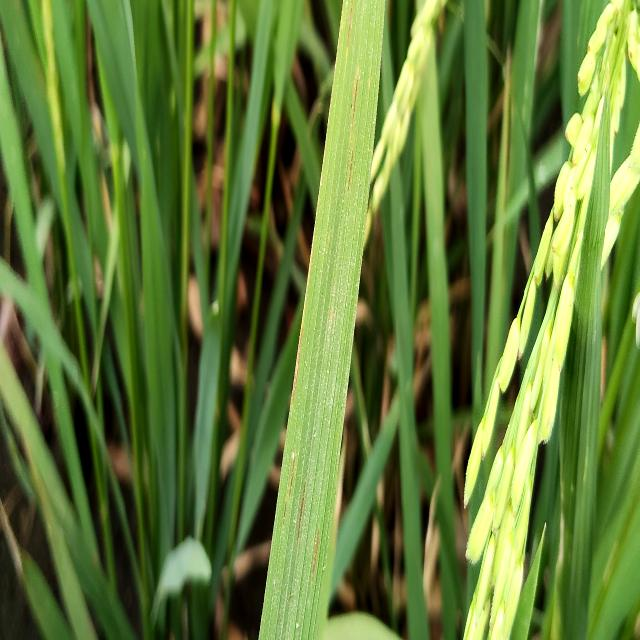NBS: (290, 326, 303, 408), (350, 68, 359, 140), (297, 485, 305, 545), (346, 0, 354, 58), (311, 534, 319, 586), (348, 149, 354, 191), (289, 458, 295, 497), (283, 501, 287, 523)
